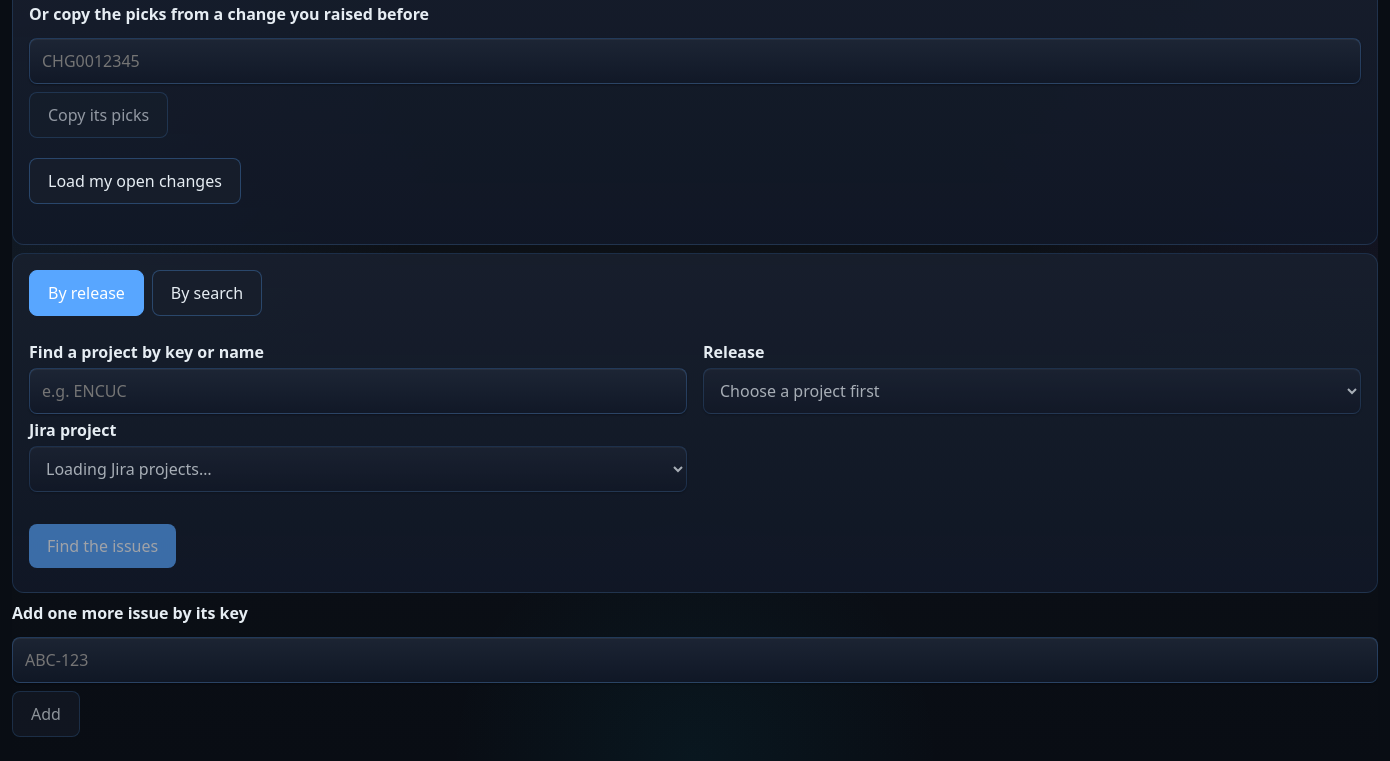
Test: ScopeStep › refuses something that is not an issue key
(page scrolled)
In the field labelled "Add one more issue by its key": [695, 660] box [12, 637, 1378, 683], type "hello"
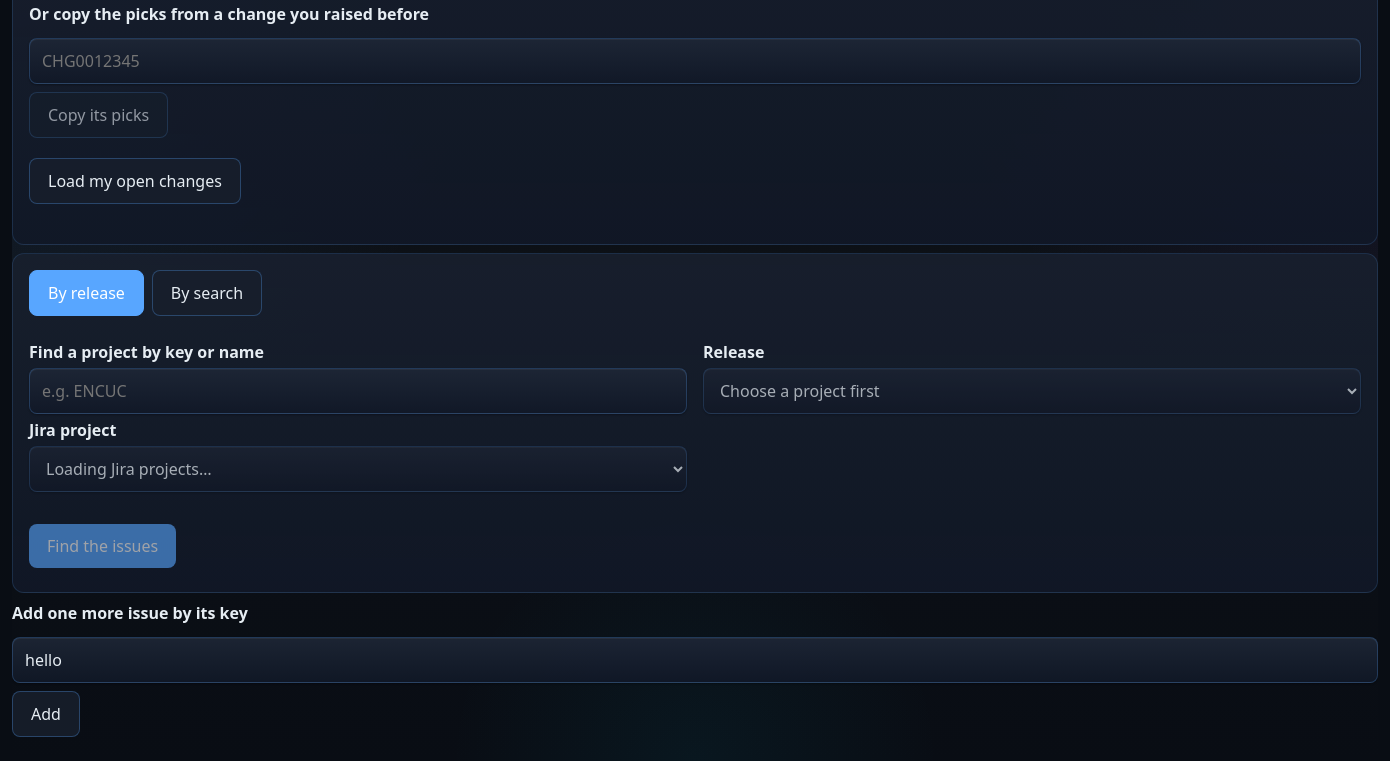
Click the button "Add": [46, 714] box [12, 691, 80, 737]
(page scrolled)
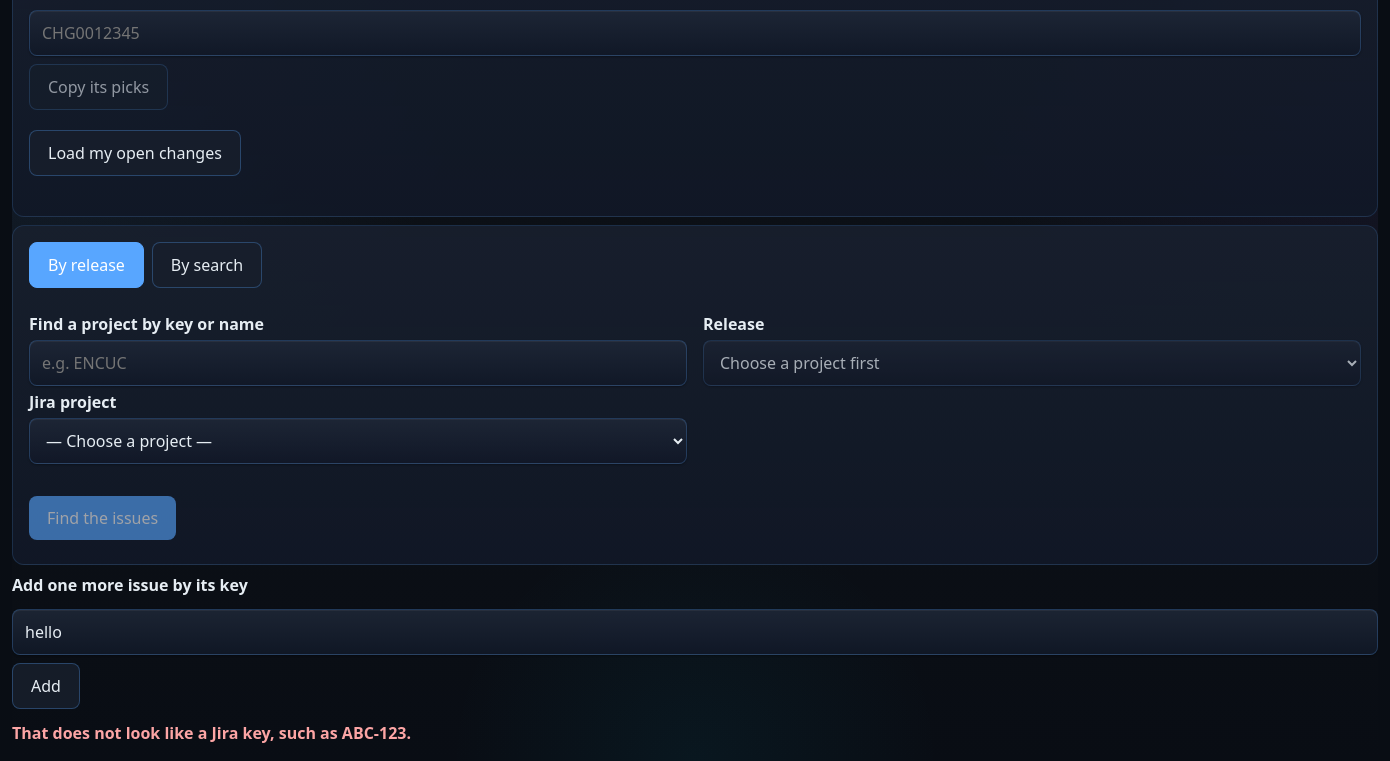
Expected: the text "That does not look like a Jira key, such as ABC-123." is shown, [12, 722, 411, 744]
